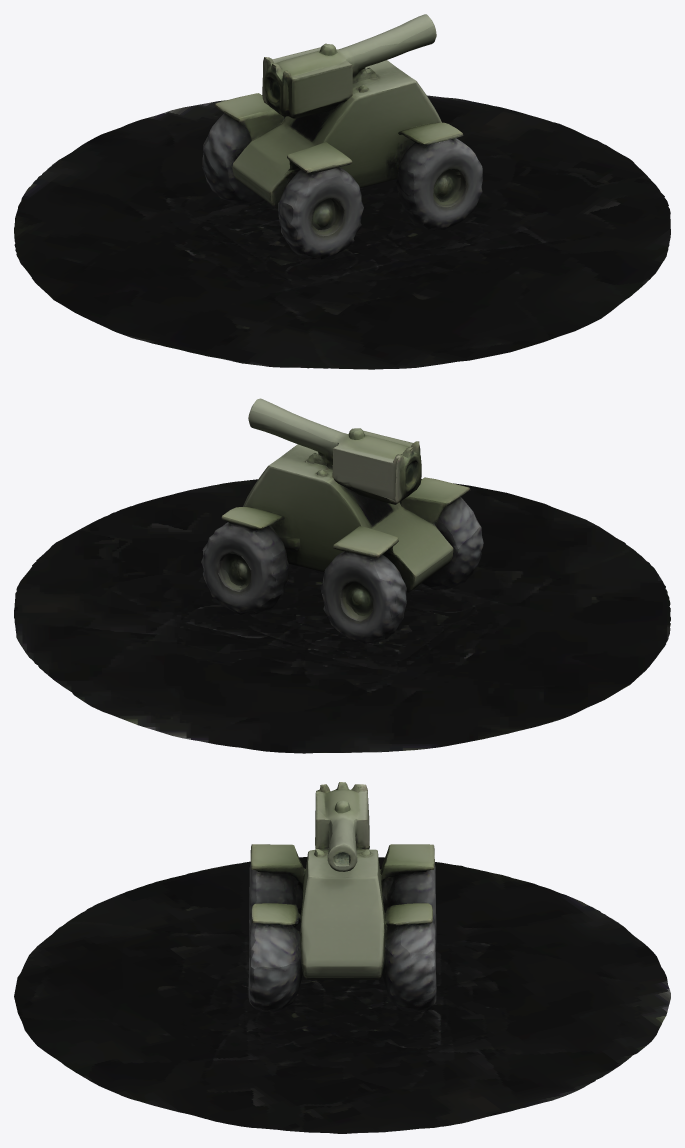
File: artillery.glb
3 views of the same model, one above another, from view 1: azimuth 30°, elevation 25°; view 2: azimuth 150°, elevation 25°; view 3: azimuth 270°, elevation 25° (orthographic).
Visible parts, largest first — view 1: geometry_0; view 2: geometry_0; view 3: geometry_0.
Part boxes in pixels (x1,y1,x2,y2): geometry_0: (14, 14, 670, 369); geometry_0: (14, 398, 670, 753); geometry_0: (14, 782, 670, 1133).
Size of the model in its own units: 0.9999 by 0.3242 by 0.9999.
1 material, 1 textured.
